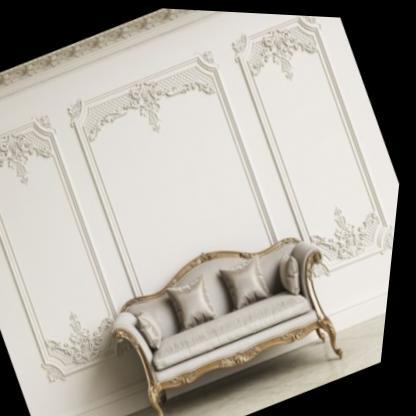Futec frame: (42, 33, 327, 356), (200, 9, 416, 289), (0, 104, 164, 394)
